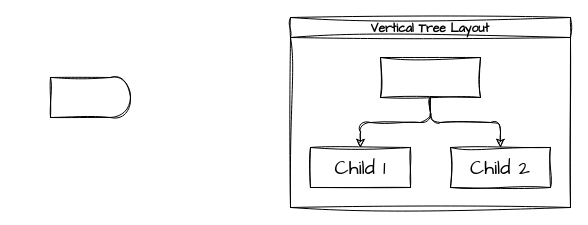
The diagram is 588 pixels wide and 225 high, and some of its shapes have lost their labels. Here are the shapes that lost their labels. From the top down, the centre of each, then its label:
At (x=90, y=97): "em desenvolvimento".
At (x=430, y=77): "Root".
